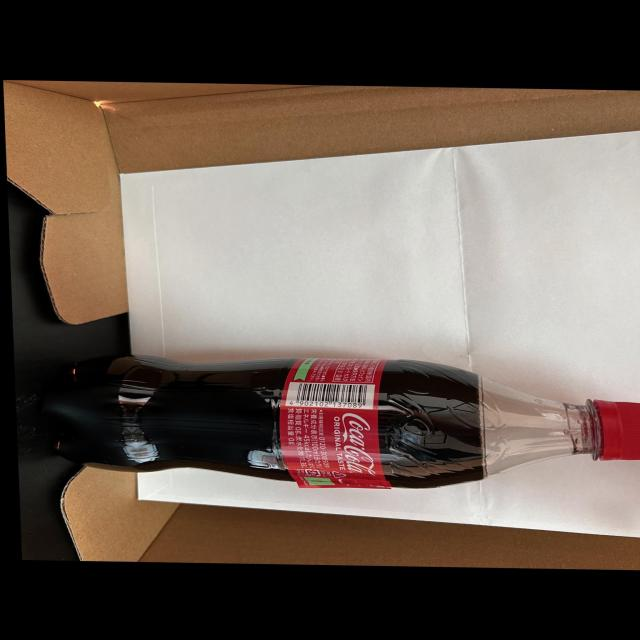high: (43, 356, 640, 489)
